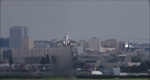maybay_muctieu: (53, 31, 78, 48)
